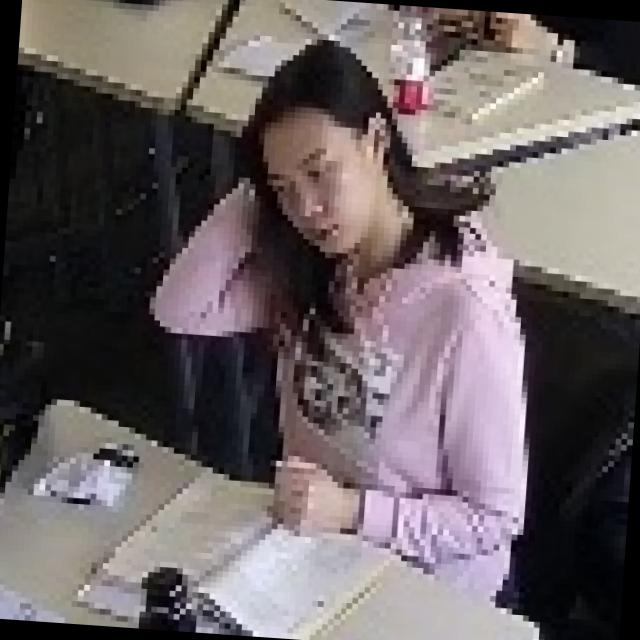trance: (124, 27, 557, 591)
